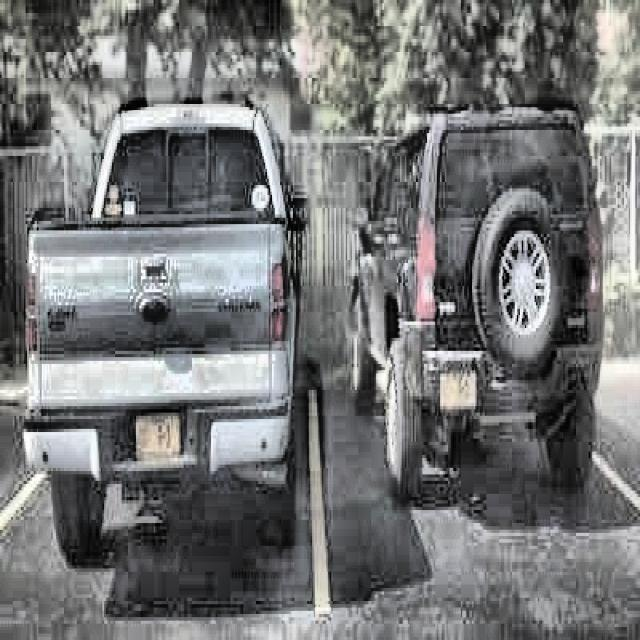license_plate: (136, 408, 183, 463), (438, 364, 476, 413)
